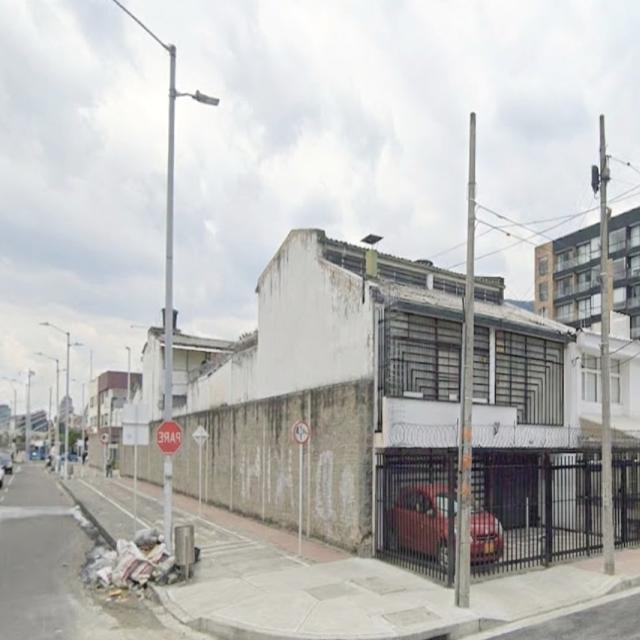fachada: (172, 230, 464, 583), (172, 315, 233, 412), (607, 207, 639, 338), (88, 372, 140, 426)
poste: (454, 113, 474, 607), (599, 115, 614, 575), (163, 45, 175, 421), (63, 332, 69, 480), (24, 370, 31, 462), (54, 358, 59, 473), (78, 383, 84, 477), (297, 445, 302, 557), (132, 425, 137, 533), (197, 441, 201, 517), (47, 387, 51, 439), (12, 388, 16, 432), (89, 349, 92, 381)
